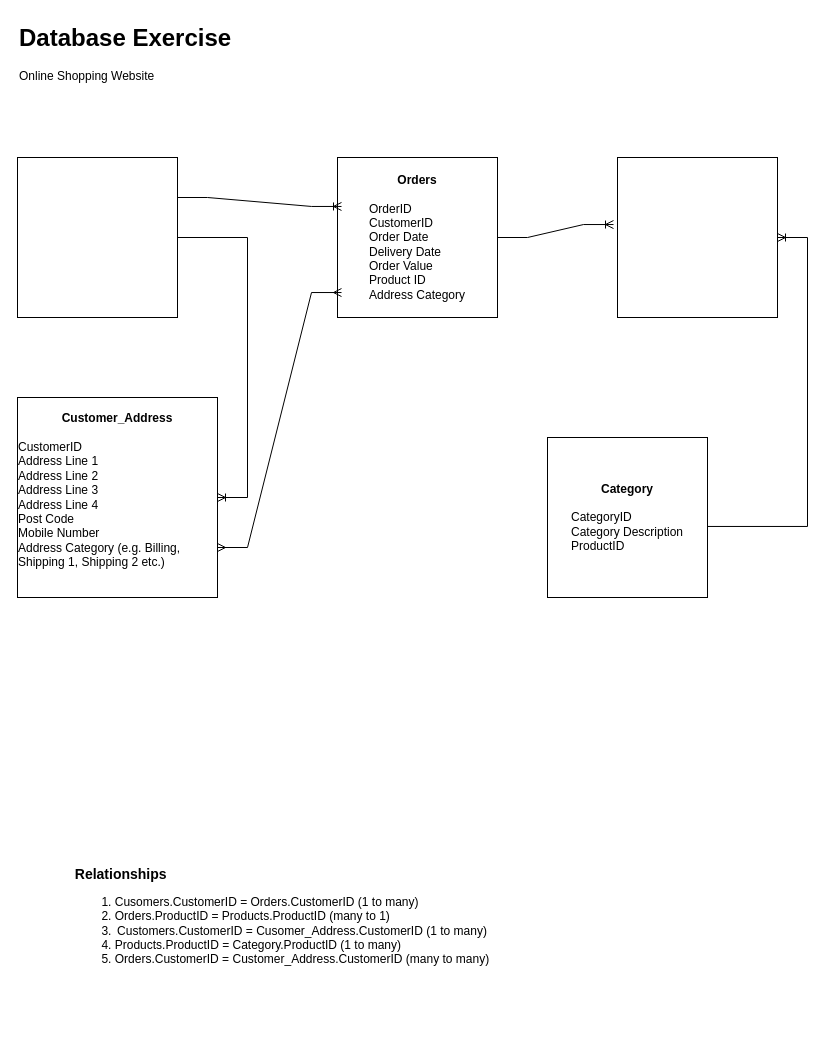
The diagram is 833 pixels wide and 1054 high, and some of its shapes have lost their labels. Each missing label, with the box of its shape:
Customers CustomerID Title First Name Last Name email address Date of Birth: (16, 156, 178, 318)
Products ProductID Description Cost Quantity: (616, 156, 778, 318)
